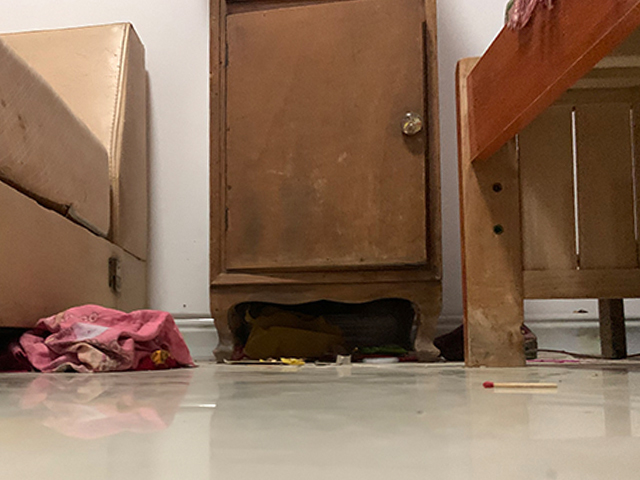bed: (454, 1, 640, 370)
cabinet: (207, 1, 443, 362)
sofa: (1, 21, 150, 333)
